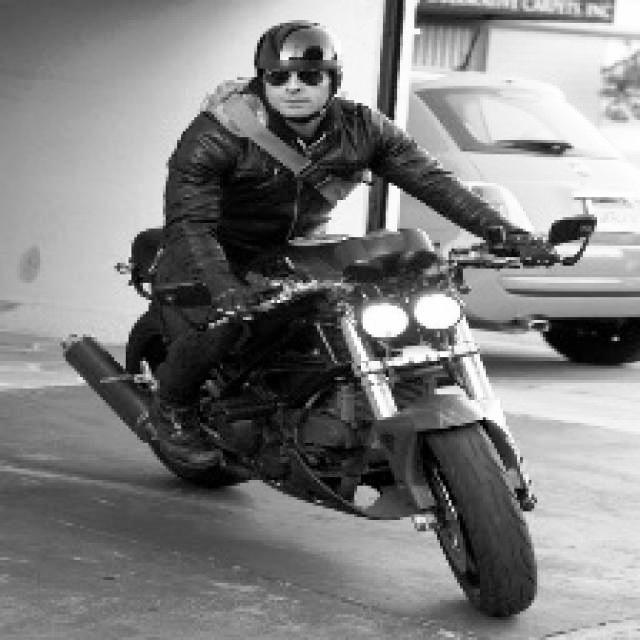Bike: (86, 228, 599, 626)
